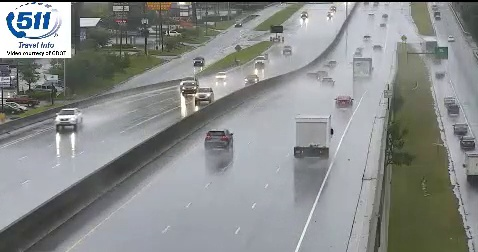car: (205, 130, 233, 148), (334, 96, 354, 109)
small-truck: (294, 115, 330, 156), (353, 58, 372, 82)
